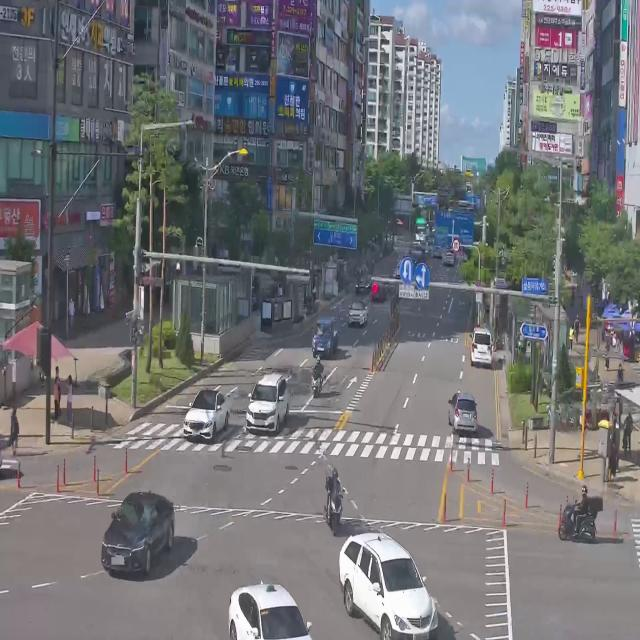Car: (338, 530, 438, 640), (101, 490, 174, 575), (228, 581, 312, 639), (245, 372, 290, 434), (183, 386, 229, 440), (447, 390, 478, 433), (312, 318, 338, 359), (470, 327, 494, 368), (347, 300, 368, 328), (352, 268, 373, 296)
Motorcycle: (557, 484, 604, 542), (326, 466, 344, 536), (310, 356, 325, 398)
